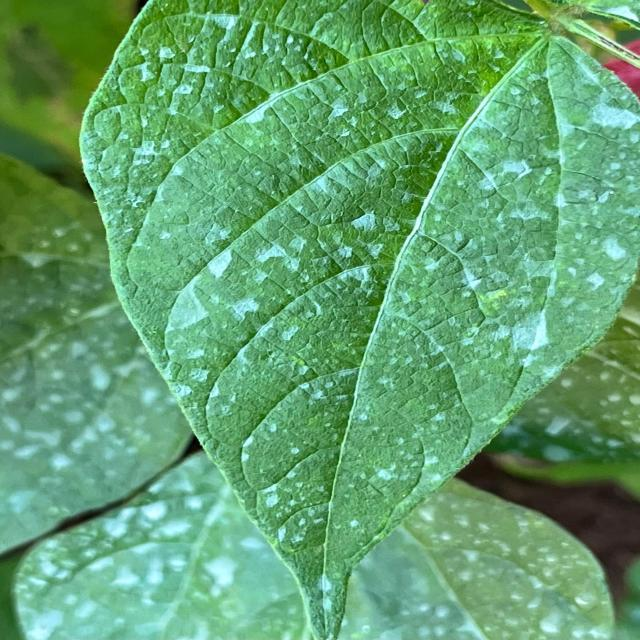embun tepung: (107, 19, 626, 493)
